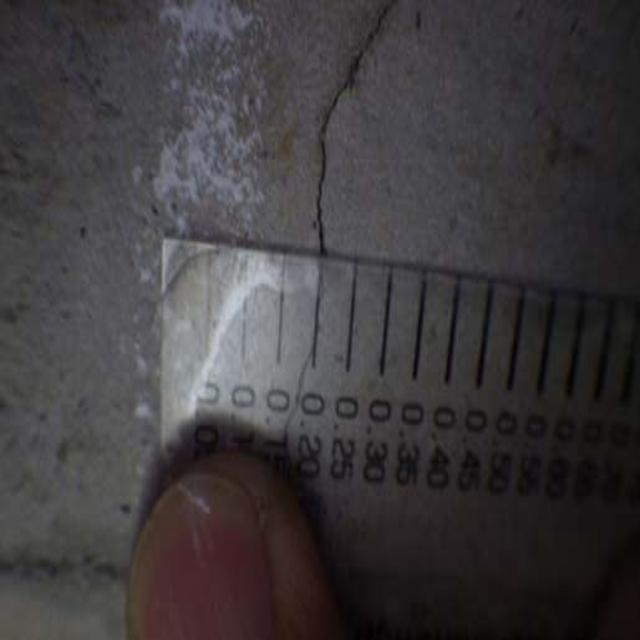crack: (300, 7, 409, 279)
